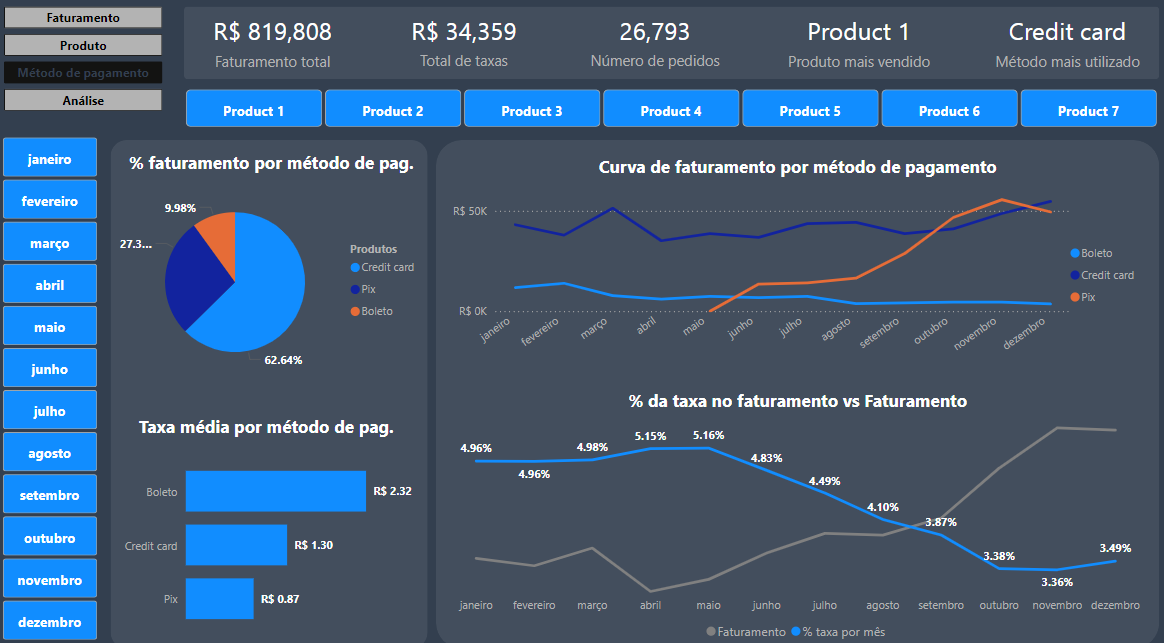

Layout of this report page (visuals, bound fields, positions):
{"tool":"powerbi","page":{"name":"Método de pagamento","canvas":[1280,720],"ordinal":2},"visuals":[{"type":"shape","box":[479.3,164.6,790.2,555.4],"z":0},{"type":"advancedSlicerVisual","fields":{"Values":["Dataset.Submission date.Variation.Hierarquia de datas.Mês"]},"box":[0,155.4,113.3,565.1],"z":1000},{"type":"shape","box":[204,17.8,1065.5,79.3],"z":2000},{"type":"card","fields":{"Values":["Sum(Dataset.Amount paid in BRL by End Customer)"]},"box":[214.6,16.2,170,79.3],"z":3000},{"type":"card","fields":{"Values":["Sum(Dataset.Fees BRL)"]},"box":[431.1,15.4,155.4,81],"z":4000},{"type":"card","fields":{"Values":["Medidas.Produto mais vendido"]},"box":[849.7,22.6,183,66.4],"z":5000},{"type":"card","fields":{"Values":["Medidas.Método de pagamento mais utilizado"]},"box":[1079.2,17.8,176.5,76.1],"z":6000},{"type":"card","fields":{"Values":["Count(Dataset.Order number)"]},"box":[633.1,15.4,170,81],"z":7000},{"type":"shape","box":[123.1,163.5,346.5,555.4],"z":8000},{"type":"pieChart","title":"% faturamento por método de pag.","fields":{"Y":["Sum(Dataset.Amount paid in BRL by End Customer)"],"Category":["Dataset.Payment method"]},"box":[127.9,174.9,341.7,262.3],"z":9000},{"type":"barChart","title":"Taxa média por método de pag.","fields":{"Category":["Dataset.Payment method"],"Y":["Avg(Dataset.Fees BRL)"]},"box":[127.9,464.3,330.3,254.2],"z":10000},{"type":"lineChart","title":"Curva de faturamento por método de pagamento","fields":{"Category":["Dataset.Submission date.Variation.Hierarquia de datas.Mês"],"Y":["Sum(Dataset.Amount paid in BRL by End Customer)"],"Series":["Dataset.Payment method"]},"box":[492.2,179.7,764.3,236.4],"z":11000},{"type":"advancedSlicerVisual","fields":{"Values":["Dataset.Product"]},"box":[199.2,103.6,1076.8,51.8],"z":12000},{"type":"lineChart","title":"% da taxa no faturamento vs Faturamento","fields":{"Category":["Dataset.Submission date.Variation.Hierarquia de datas.Mês"],"Y2":["Medidas.% média por mês"],"Y":["Sum(Dataset.Amount paid in BRL by End Customer)"]},"box":[492.2,436.6,764.3,283.4],"z":13000},{"type":"pageNavigator","box":[6.5,17.8,173.3,116.6],"z":14000}]}

Visuals, with their boxes in screenshot pixels (x1, y1, x2, y2), scaled from the page's 1280x720 canvas onto the 1164x643 screenshot:
shape: region(436, 147, 1154, 642)
advancedSlicerVisual - Dataset.Submission date.Variation.Hierarquia de datas.Mês: region(0, 139, 103, 642)
shape: region(186, 16, 1154, 87)
card - Sum(Dataset.Amount paid in BRL by End Customer): region(195, 14, 350, 85)
card - Sum(Dataset.Fees BRL): region(392, 14, 533, 86)
card - Medidas.Produto mais vendido: region(773, 20, 939, 79)
card - Medidas.Método de pagamento mais utilizado: region(981, 16, 1142, 84)
card - Count(Dataset.Order number): region(576, 14, 730, 86)
shape: region(112, 146, 427, 642)
"% faturamento por método de pag." pieChart: region(116, 156, 427, 390)
"Taxa média por método de pag." barChart: region(116, 415, 417, 642)
"Curva de faturamento por método de pagamento" lineChart: region(448, 160, 1143, 372)
advancedSlicerVisual - Dataset.Product: region(181, 93, 1160, 139)
"% da taxa no faturamento vs Faturamento" lineChart: region(448, 390, 1143, 642)
pageNavigator: region(6, 16, 164, 120)
